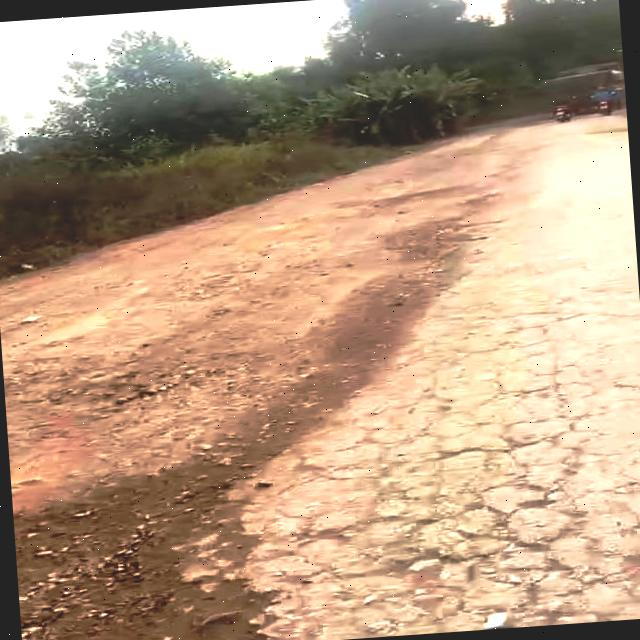pothole: (12, 491, 293, 640)
